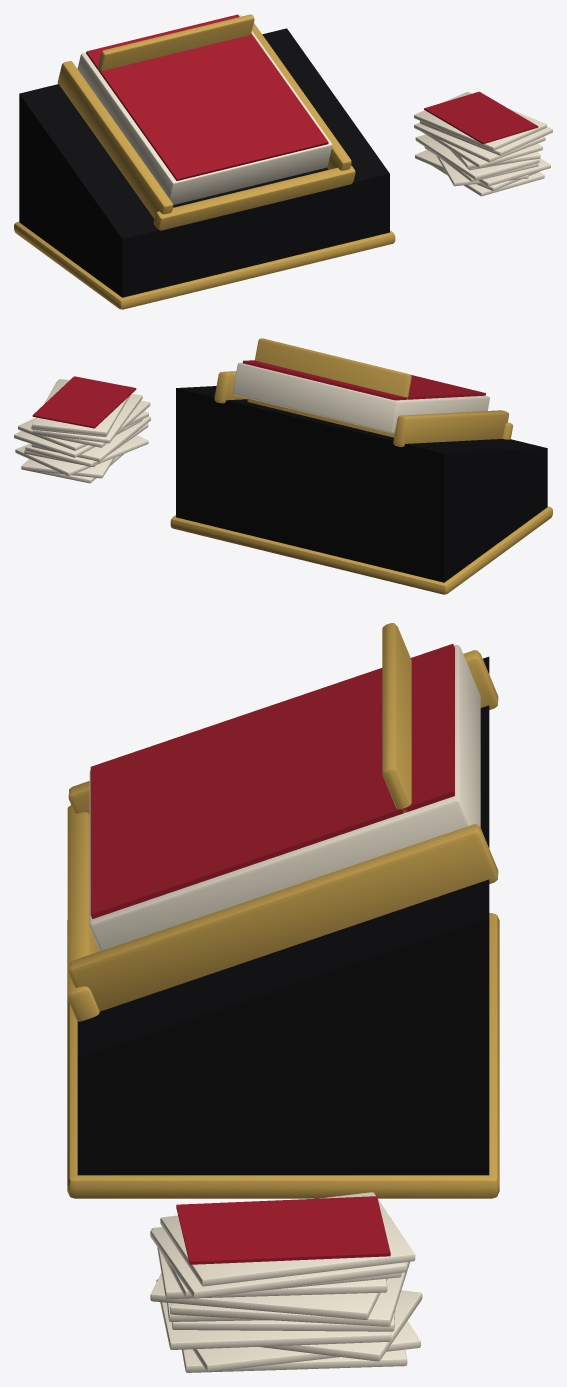
The model's file is card_shoe.glb.
3 renders of one model, top to bottom at view 1: azimuth 30°, elevation 25°; view 2: azimuth 150°, elevation 25°; view 3: azimuth 270°, elevation 25°, orthographic. The views are drawn at different scales.
Parts seen in each view (by area): view 1: card_shoe; view 2: card_shoe; view 3: card_shoe.
Boxes of the visible parts, <box> form: card_shoe: <box>14,14,552,309</box>; card_shoe: <box>14,338,552,594</box>; card_shoe: <box>67,623,499,1372</box>.
Size of the model in its own units: 0.5205 by 0.1993 by 0.21.
